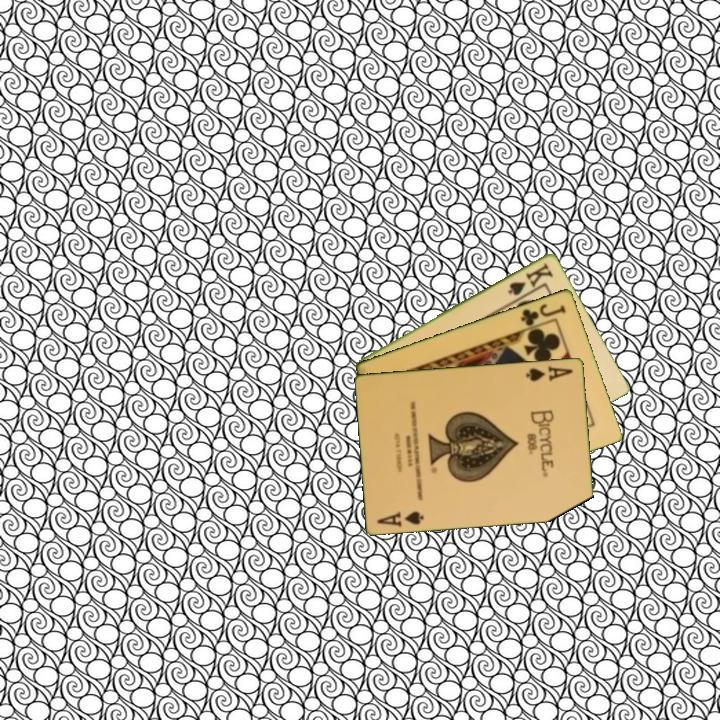As: (374, 507, 427, 530), (523, 362, 576, 384)
Jc: (517, 300, 569, 329)
Ks: (504, 258, 556, 298)
